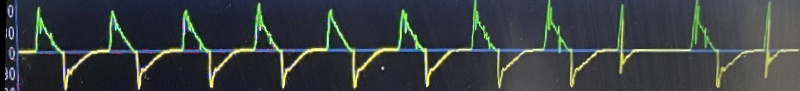hydrop_flow: (3, 0, 800, 91)
